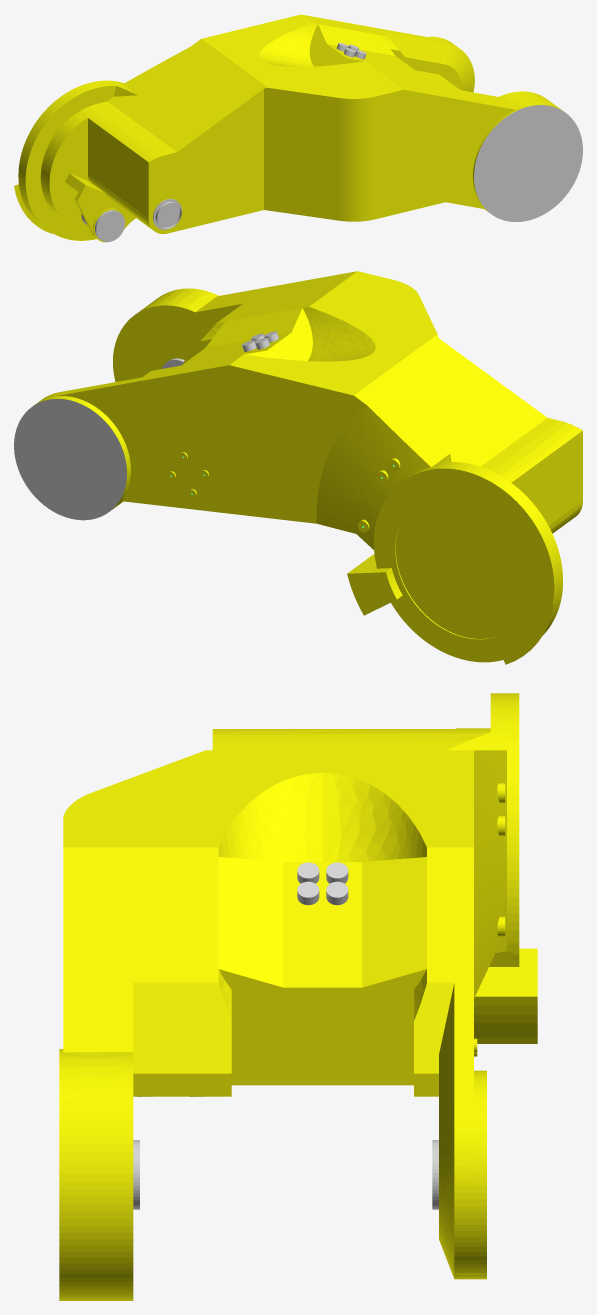
The picture shows the model from 3 angles, top to bottom: view 1: azimuth 30°, elevation 25°; view 2: azimuth 150°, elevation 25°; view 3: azimuth 270°, elevation 25°; orthographic projection. The views are drawn at different scales.
Visible parts, largest first — view 1: node; view 2: node; view 3: node.
Boxes of the visible parts, box(x1,y1,x2,y2) form: node: box(14, 14, 582, 242); node: box(14, 271, 582, 664); node: box(59, 693, 537, 1300).
Size of the model in its own units: 2378 by 900 by 1091.
